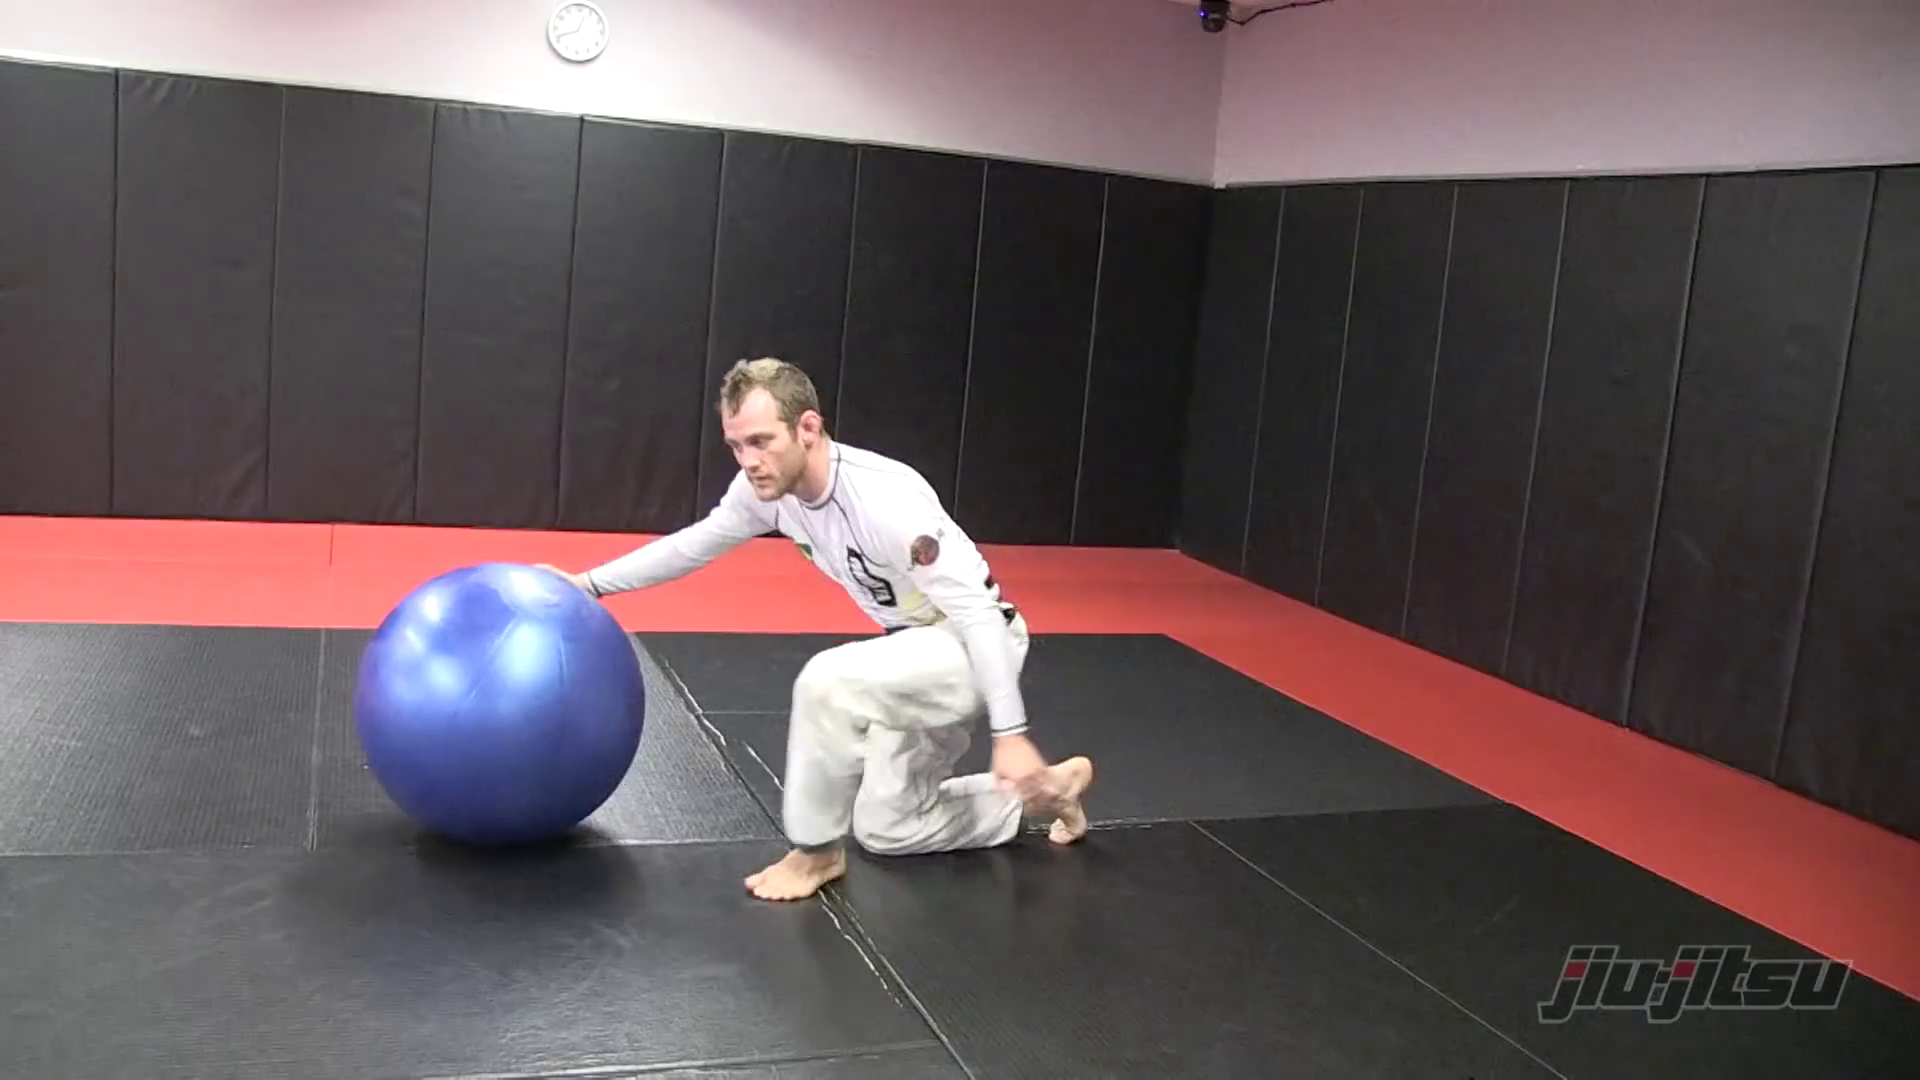yogaball: (338, 546, 662, 860)
